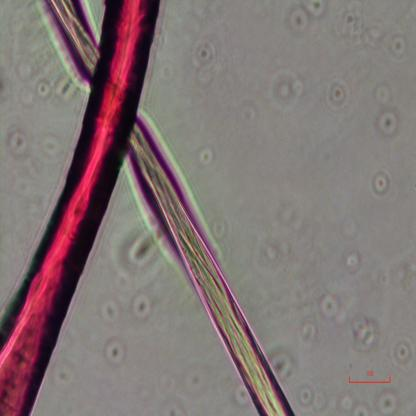Background material: (243, 232, 300, 282), (297, 386, 396, 414), (188, 33, 226, 90), (334, 5, 381, 50), (123, 229, 165, 278), (348, 308, 384, 355), (226, 88, 265, 130), (20, 79, 73, 107), (287, 1, 327, 38), (270, 70, 304, 110), (268, 334, 295, 384), (372, 106, 401, 141), (4, 122, 30, 160), (391, 332, 415, 372), (322, 291, 347, 329), (369, 162, 393, 200), (324, 78, 349, 110), (33, 124, 58, 156), (183, 364, 210, 393), (192, 141, 216, 171), (300, 316, 321, 350), (102, 338, 126, 364), (129, 293, 151, 320), (102, 297, 121, 328), (370, 81, 393, 106), (387, 36, 406, 61), (209, 217, 229, 238), (344, 255, 361, 271)
Microfibre: (44, 1, 294, 415), (0, 2, 159, 414)
